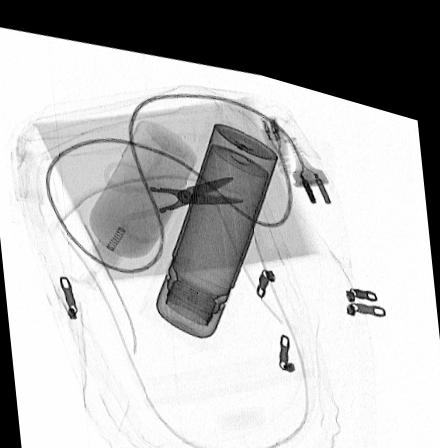Scissors: (103, 153, 246, 232)
